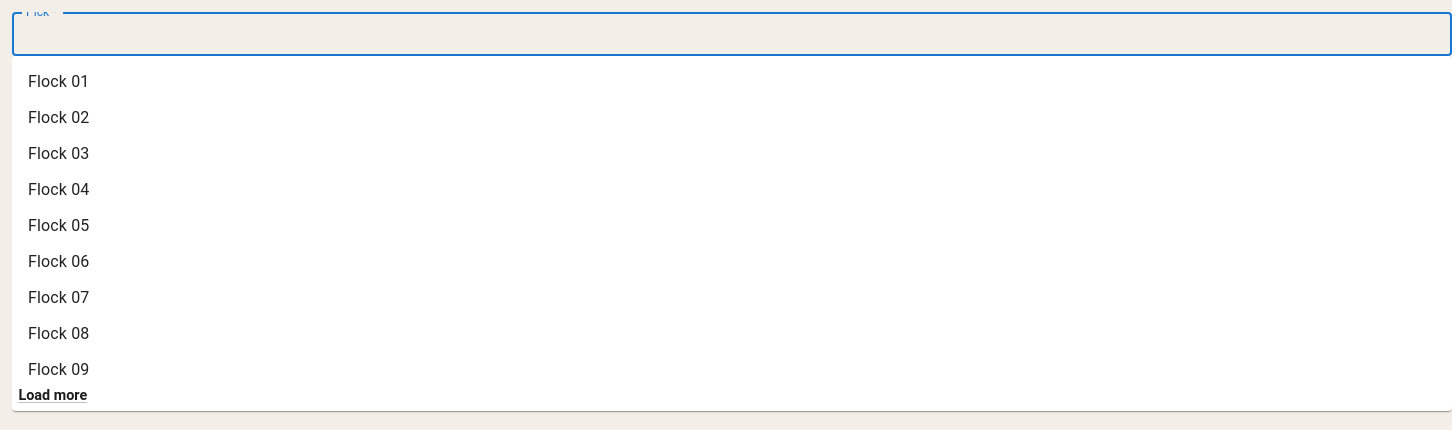
T034: replacement vs extension error recovery + Retry (FR-023/024/028) › extension failure: loaded rows RETAINED, adjacent Retry; Retry re-runs the EXTENSION (same query, painted cursor — offset 50, not 0) and restores focus
Expected: the text "Flock 01" is shown, [28, 70, 90, 94]
Click the button "Load more".
click(53, 396)  # box [12, 380, 94, 411]
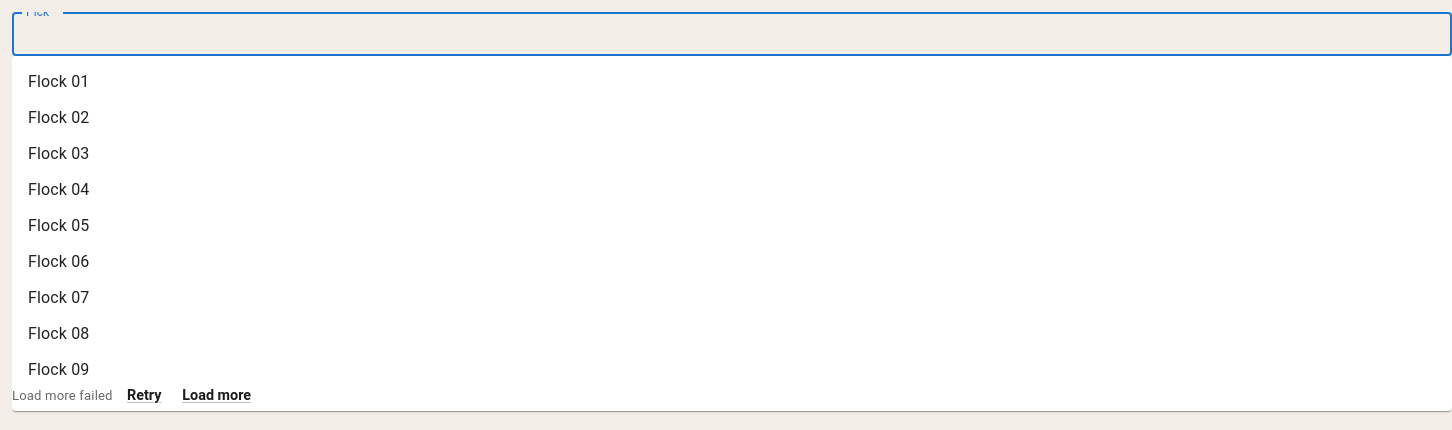
Expected: the text "Flock 01" is shown, [28, 70, 90, 94]
Now the message "Load more failed" is shown, box [12, 386, 113, 406]
Click the button "Retry".
click(144, 396)  # box [121, 380, 168, 411]
(page scrolled)
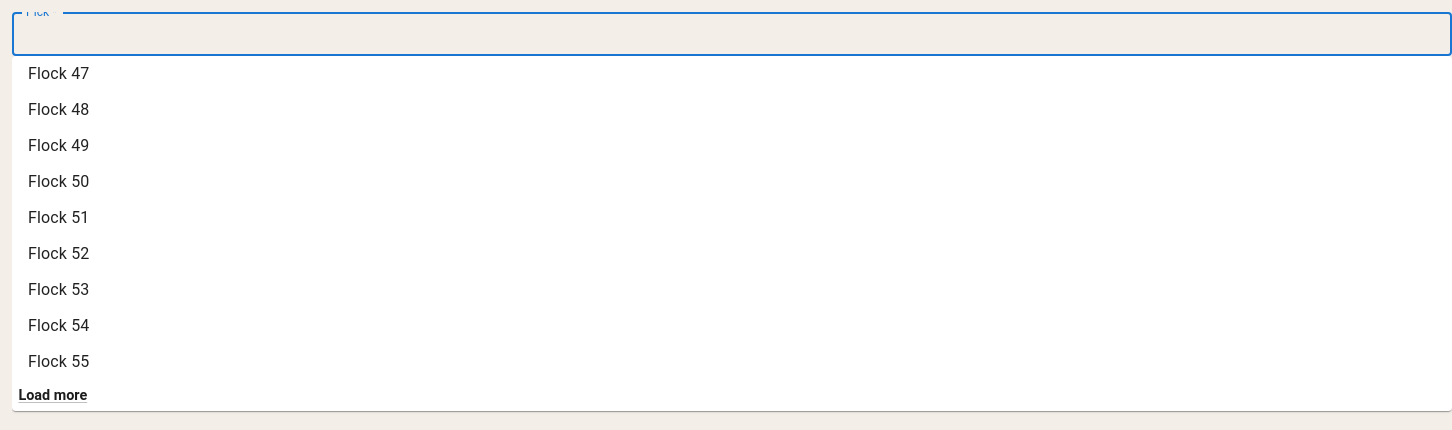
Now the text "Flock 51" is shown, box [28, 206, 90, 230]
